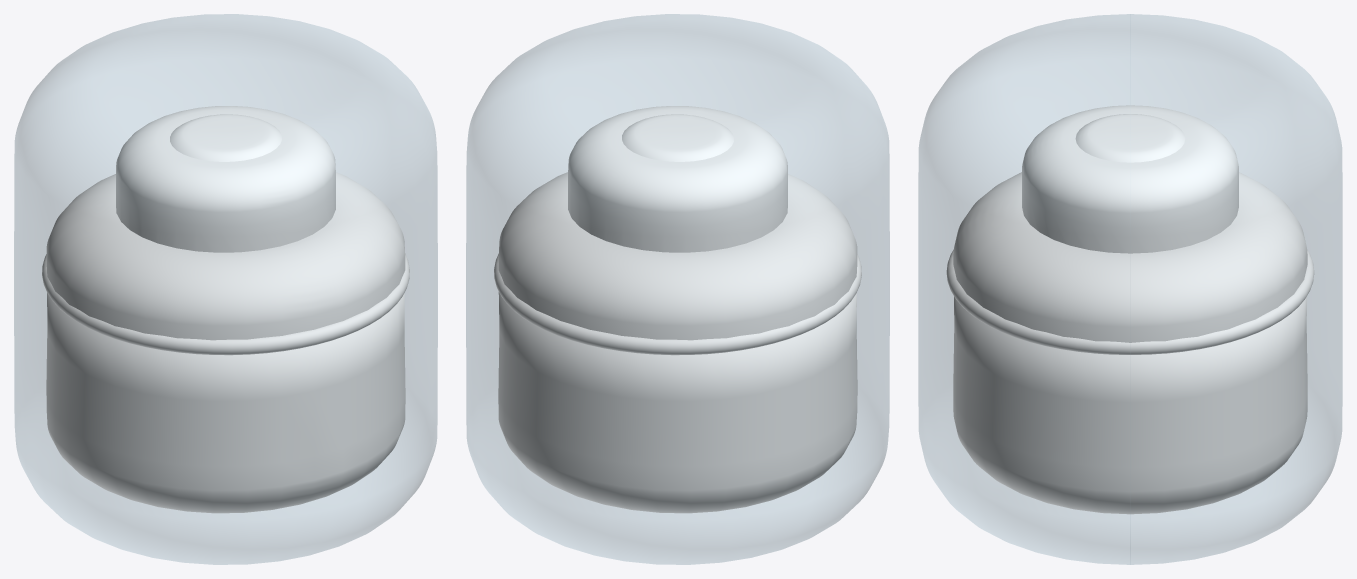
File: capsule(Split).glb
3 views of the same model, side by side, from view 1: azimuth 30°, elevation 25°; view 2: azimuth 150°, elevation 25°; view 3: azimuth 270°, elevation 25° (orthographic).
Parts seen in each view (by area): view 1: Glass.001, Inner_CoreButtom, Inner_CoreTop, Top_Inner_Core, Ring, S_Top_Inner_Core; view 2: Glass.001, Inner_CoreButtom, Inner_CoreTop, Top_Inner_Core, Ring, S_Top_Inner_Core; view 3: Glass.001, Inner_CoreButtom, Inner_CoreTop, Top_Inner_Core, Ring, S_Top_Inner_Core.
Part boxes in pixels (x1,y1,x2,y2): Glass.001: (14,14,437,564); Inner_CoreButtom: (46,293,405,513); Inner_CoreTop: (46,172,405,340); Top_Inner_Core: (116,106,335,252); Ring: (42,254,409,355); S_Top_Inner_Core: (170,114,281,161); Glass.001: (466,14,889,564); Inner_CoreButtom: (498,292,857,513); Inner_CoreTop: (498,172,857,340); Top_Inner_Core: (568,106,787,252); Ring: (494,254,861,355); S_Top_Inner_Core: (622,114,733,161); Glass.001: (918,14,1342,564); Inner_CoreButtom: (953,296,1307,514); Inner_CoreTop: (953,172,1307,342); Top_Inner_Core: (1022,105,1238,253); Ring: (946,250,1314,354); S_Top_Inner_Core: (1075,114,1185,162).
Bounding box in the file's own units: 0.981 × 1.09 × 0.981.
